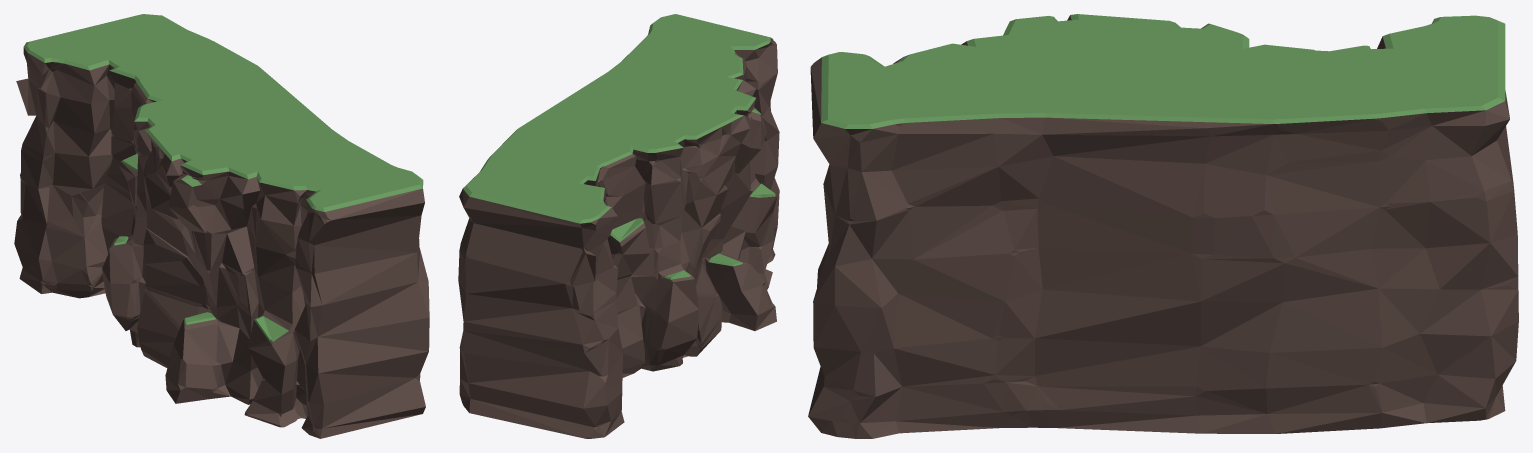
File: Cliff 7.fbx
3 views of the same model, side by side, from view 1: azimuth 30°, elevation 25°; view 2: azimuth 150°, elevation 25°; view 3: azimuth 270°, elevation 25° (orthographic). The views are drawn at different scales.
Visible parts, largest first — view 1: Cliff 13; view 2: Cliff 13; view 3: Cliff 13.
Part boxes in pixels (<box>): Cliff 13: <box>14,14,429,438</box>; Cliff 13: <box>458,14,779,438</box>; Cliff 13: <box>808,14,1518,438</box>.
Size of the model in its own units: 1.75 by 2.02 by 4.16.
